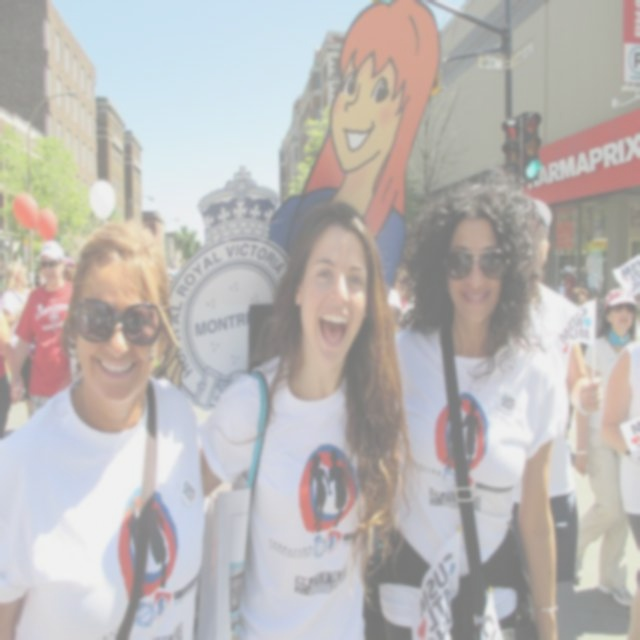pessoa: (367, 176, 574, 639), (196, 194, 407, 638), (0, 215, 205, 638), (265, 0, 438, 296), (510, 197, 604, 584), (572, 285, 638, 608), (9, 238, 74, 422), (602, 338, 640, 639), (0, 294, 25, 446), (555, 266, 600, 342), (0, 257, 34, 347), (61, 253, 80, 280)
